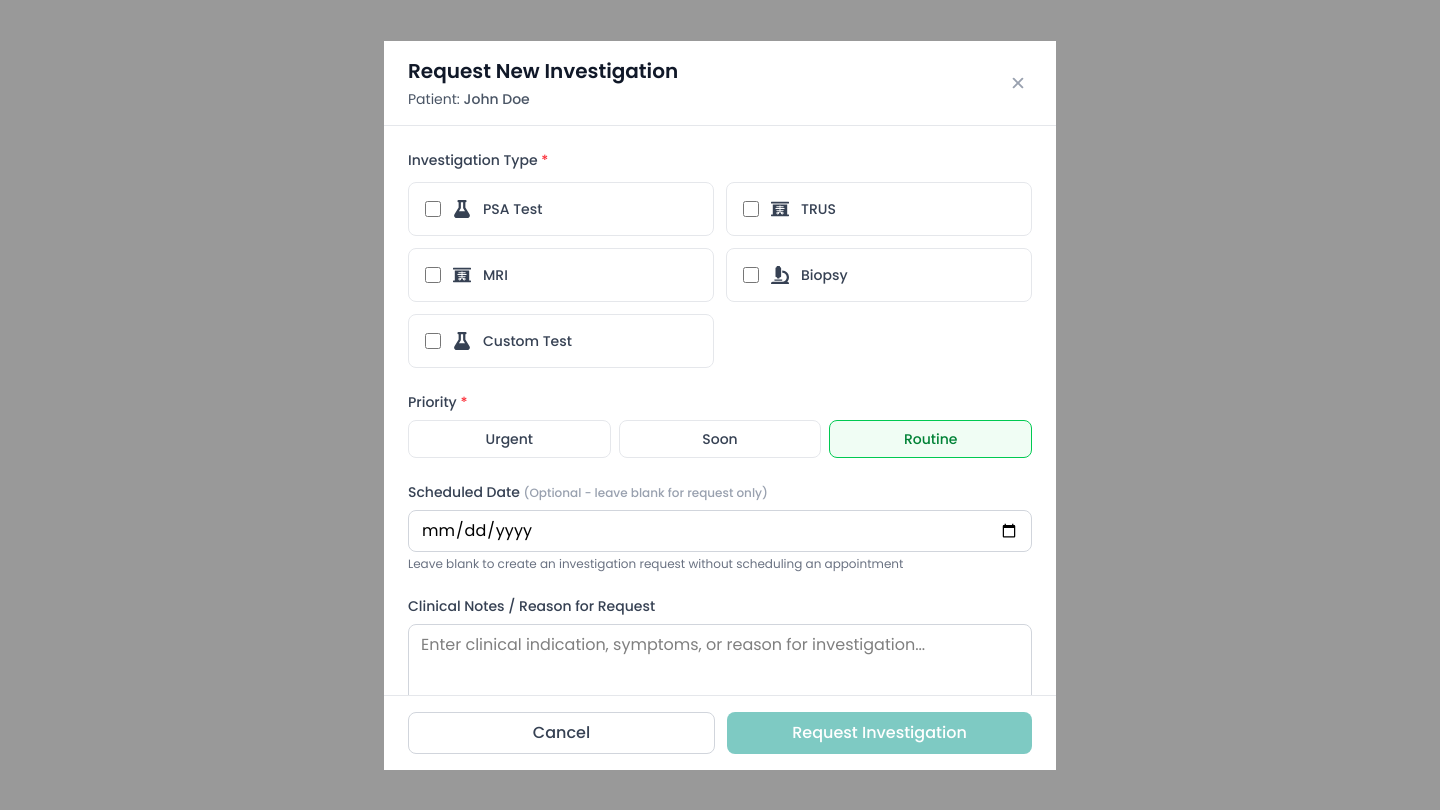
Test: AddInvestigationModal › Investigation Type Selection › should toggle investigation type selection
The width and height of the screenshot is (1440, 810).
Click the text "PSA Test" at (561,208), box [408, 182, 714, 236]
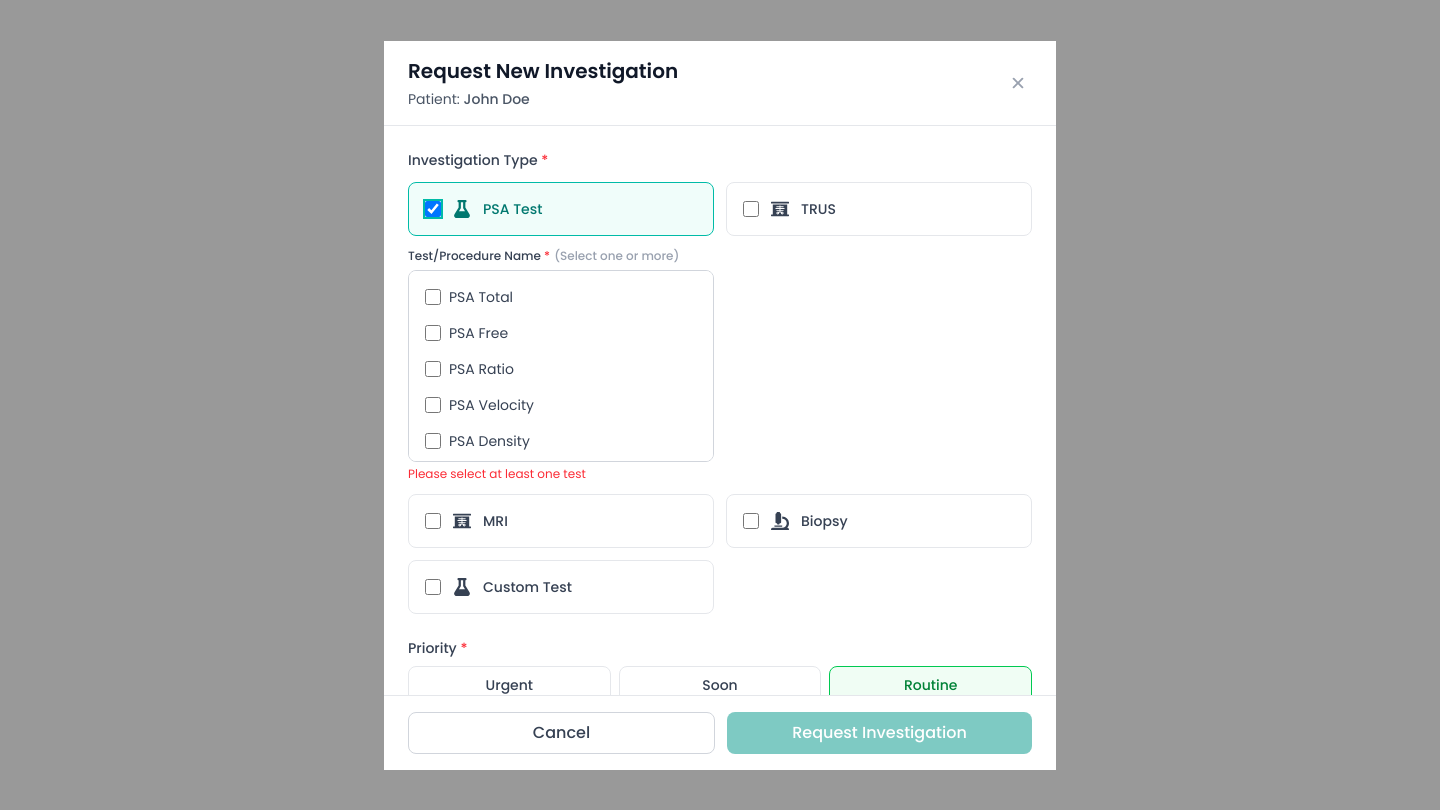
Expected: the text "PSA Total" is shown, [449, 286, 513, 306]
